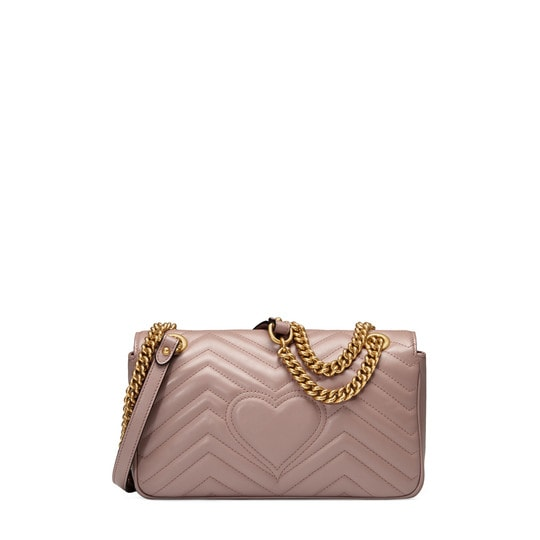Gucci: (120, 314, 430, 519), (181, 392, 434, 494)
